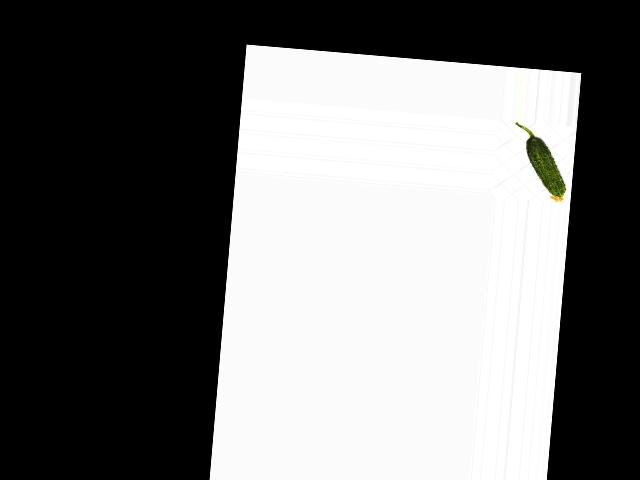cucumber: (509, 122, 571, 203)
